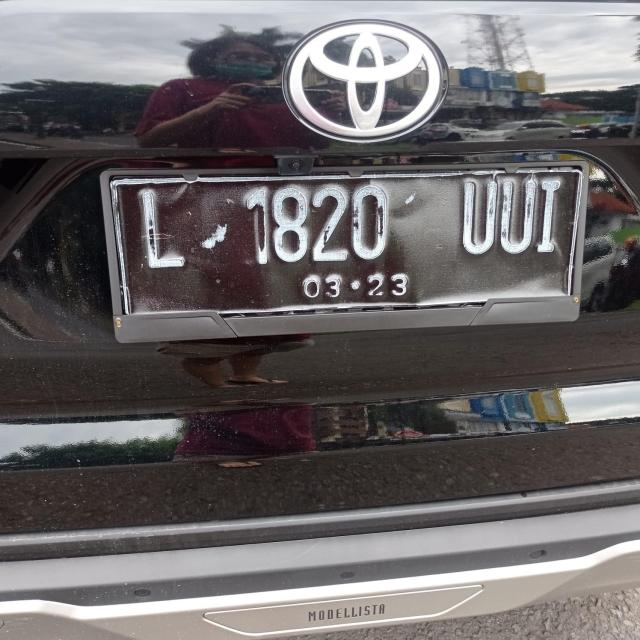license-plate: (101, 162, 588, 342)
